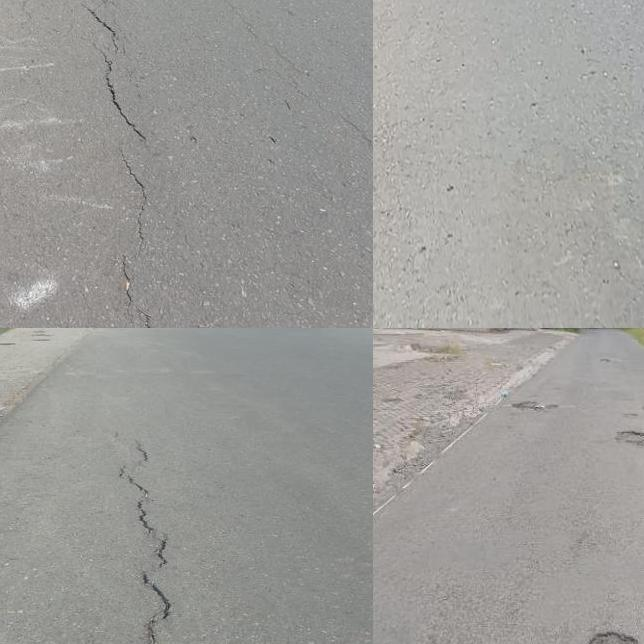Memanjang: (81, 0, 170, 328), (106, 435, 186, 644)
